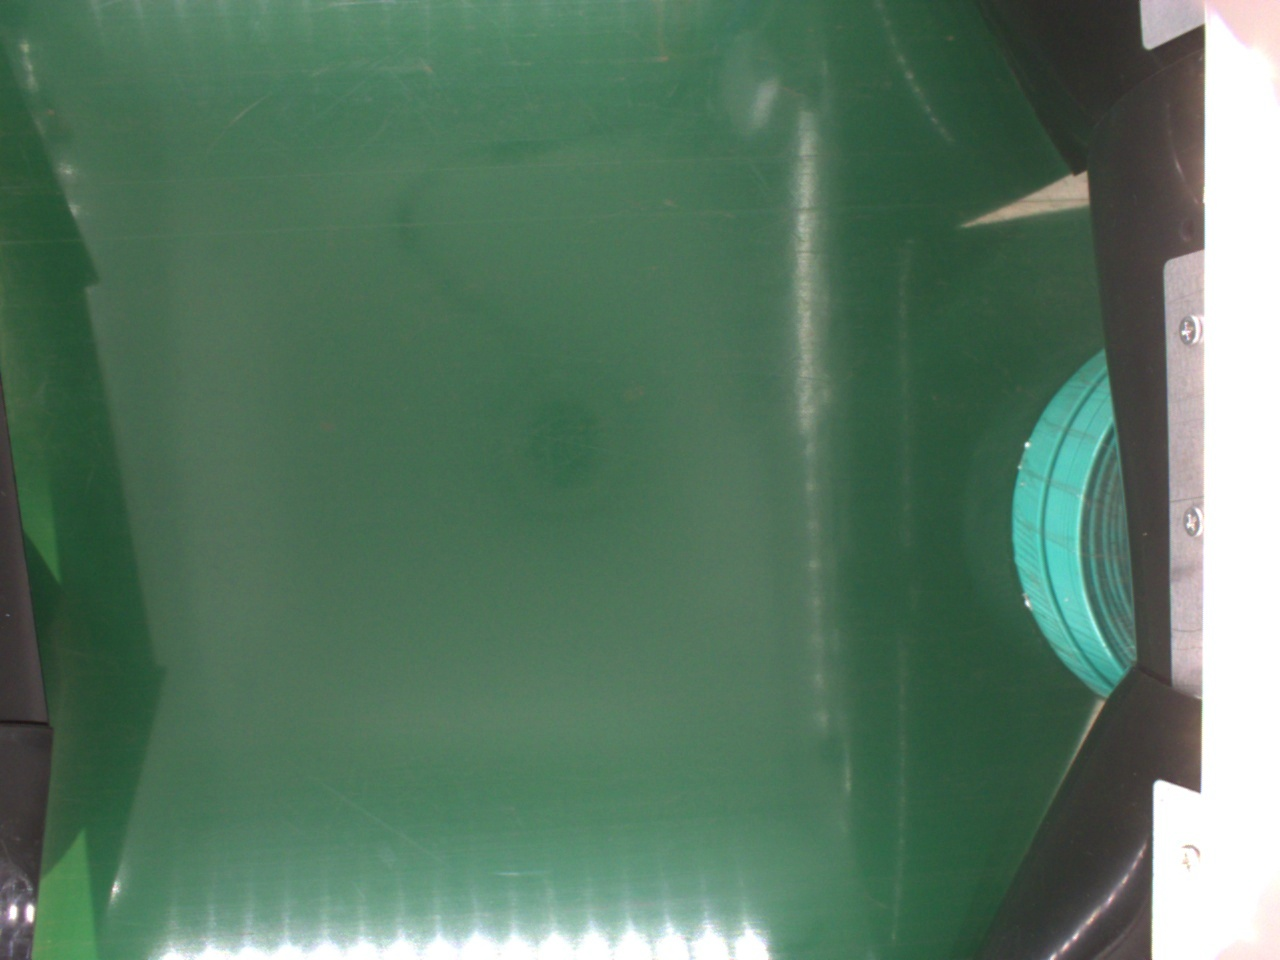green: (1011, 349, 1136, 701)
